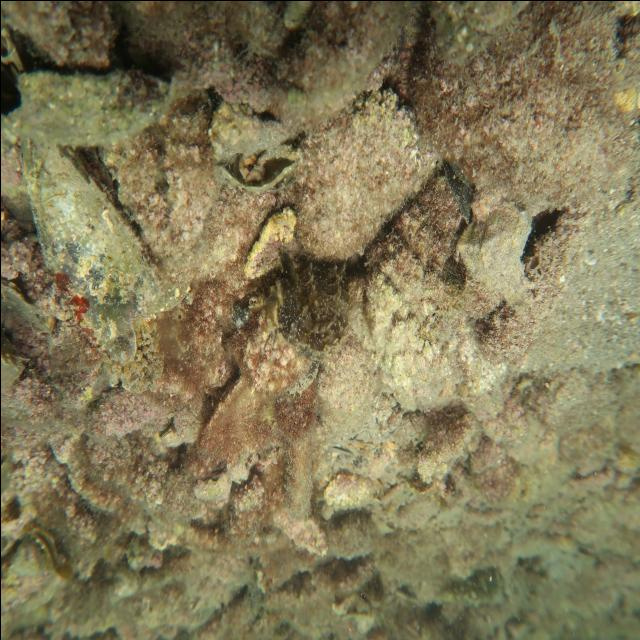Guttu: (272, 244, 324, 352)
